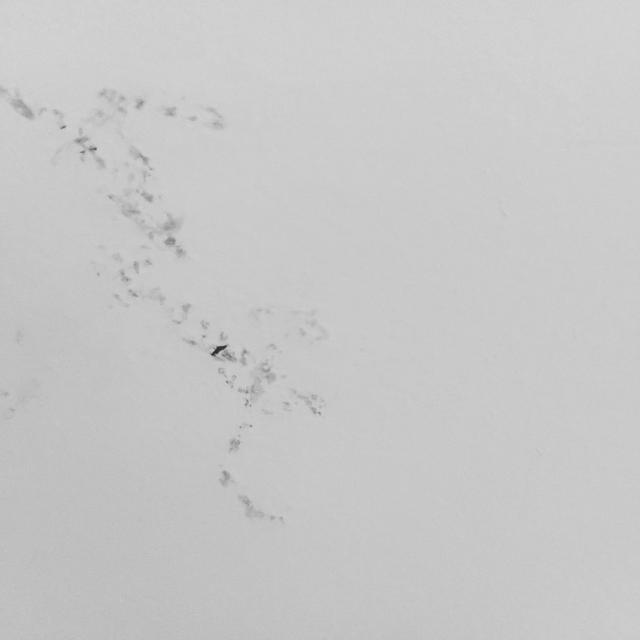stain marks: (1, 78, 335, 531)
